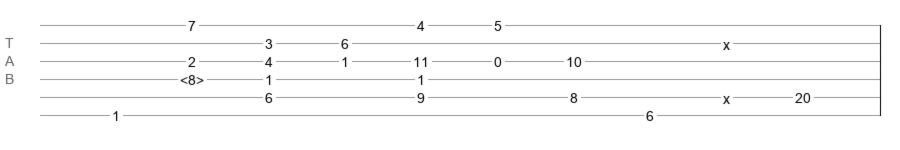0: (494, 54, 502, 64)
1: (112, 108, 120, 118), (265, 72, 273, 82), (341, 54, 349, 64), (417, 72, 425, 82)
10: (566, 54, 582, 64)
11: (413, 54, 429, 64)
2: (188, 54, 196, 64)
20: (795, 90, 811, 100)
3: (265, 36, 273, 46)
4: (265, 54, 273, 64), (417, 18, 425, 28)
5: (494, 18, 502, 28)
6: (265, 90, 273, 100), (341, 36, 349, 46), (646, 108, 654, 118)
7: (188, 18, 196, 28)
8: (570, 90, 578, 100)
9: (417, 90, 425, 100)
harmonic: (180, 72, 204, 82)
x: (723, 91, 730, 99), (723, 37, 730, 45)
